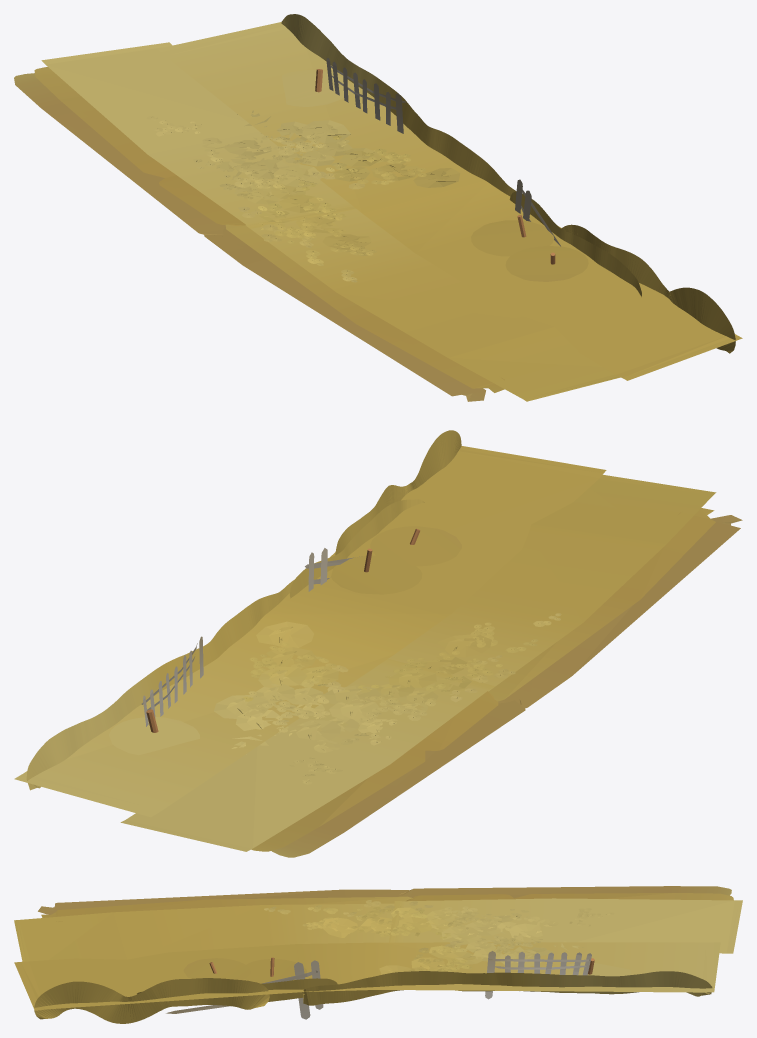
Rendered from Sand.fbx.
The picture shows the model from 3 angles, top to bottom: view 1: azimuth 30°, elevation 25°; view 2: azimuth 150°, elevation 25°; view 3: azimuth 270°, elevation 25°; orthographic projection. The views are drawn at different scales.
Visible parts, largest first — view 1: Sand; view 2: Sand; view 3: Sand.
Boxes of the visible parts, bbox=[...] form: Sand: bbox=[14, 14, 742, 401]; Sand: bbox=[14, 430, 742, 857]; Sand: bbox=[14, 886, 742, 1023].
Size of the model in its own units: 22.85 by 6.01 by 59.47.
